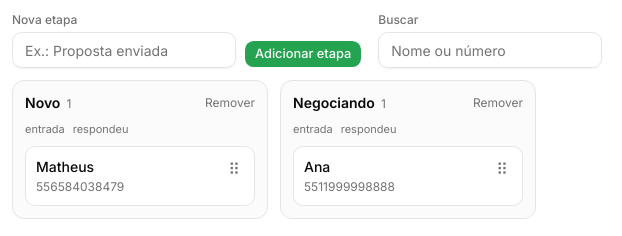
Test: busca › acha pelo número nas duas formas do nono dígito
Type "5565984038479" into the search field labelled "Buscar" at (490, 50), box [378,32,602,68]
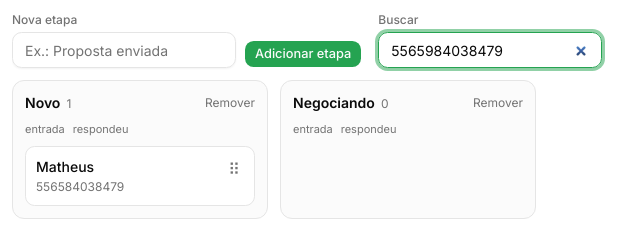
Expected: the text "Matheus" is shown, [36,158,94,174]
Now the link "Ana" is gone
